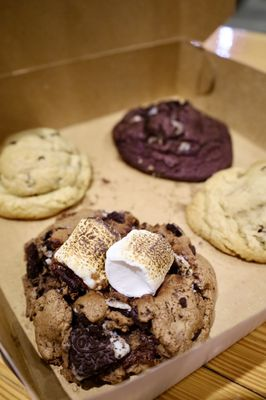salad: (112, 98, 233, 182), (0, 126, 94, 220)
sushi: (22, 207, 216, 394)
